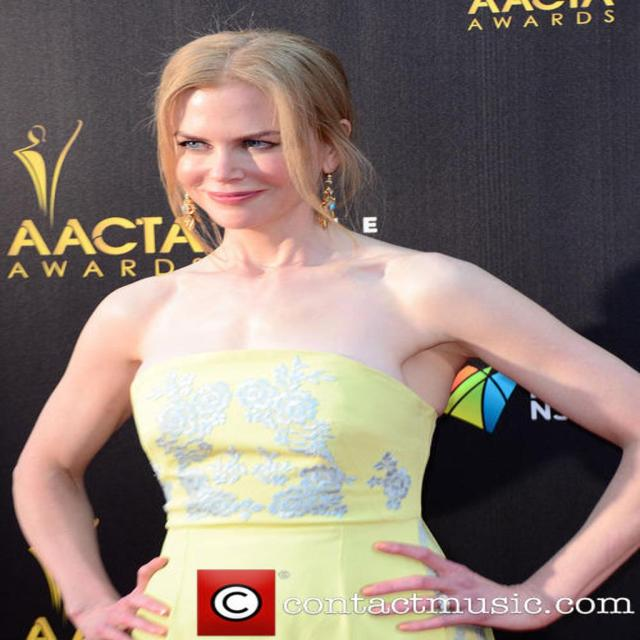Face: (158, 70, 309, 218)
